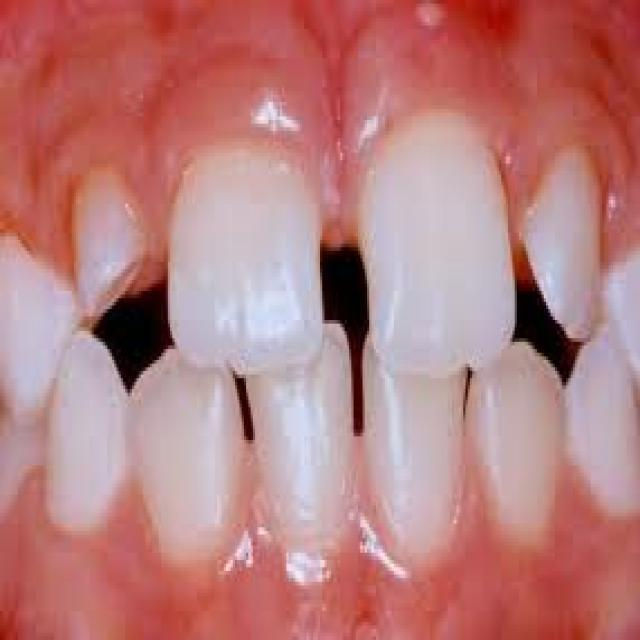Gap: (281, 190, 407, 352), (460, 207, 575, 341), (201, 352, 280, 474), (323, 335, 386, 464)
